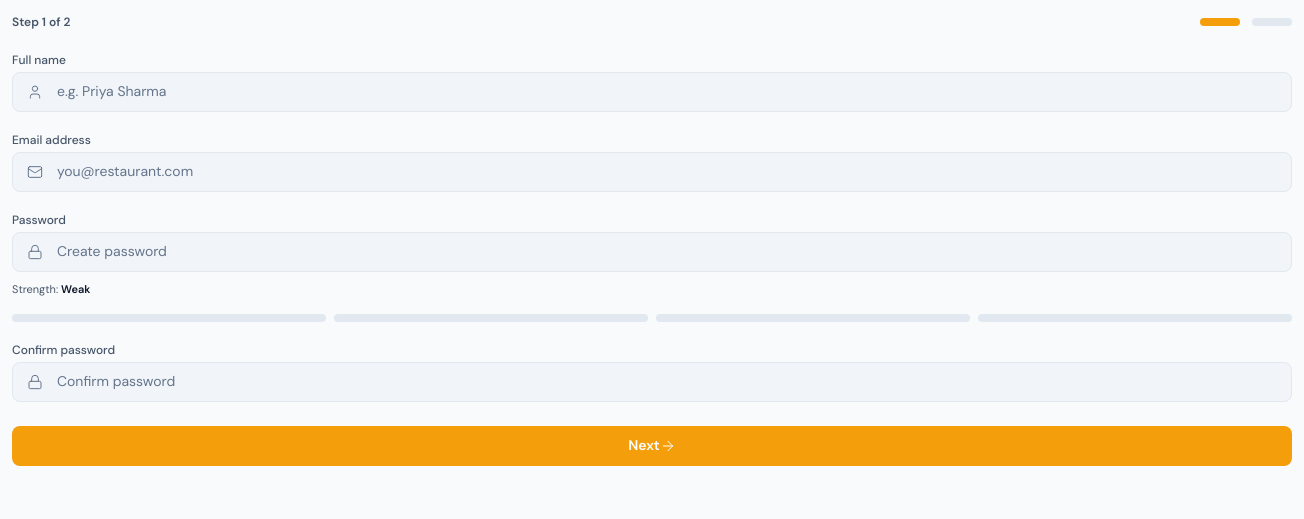
RestaurantSignupForm › moves to Step 2 when Step 1 validates cleanly
In the field labelled "Full name": (674, 92) [57,80,1291,104], type "Priya Sharma"
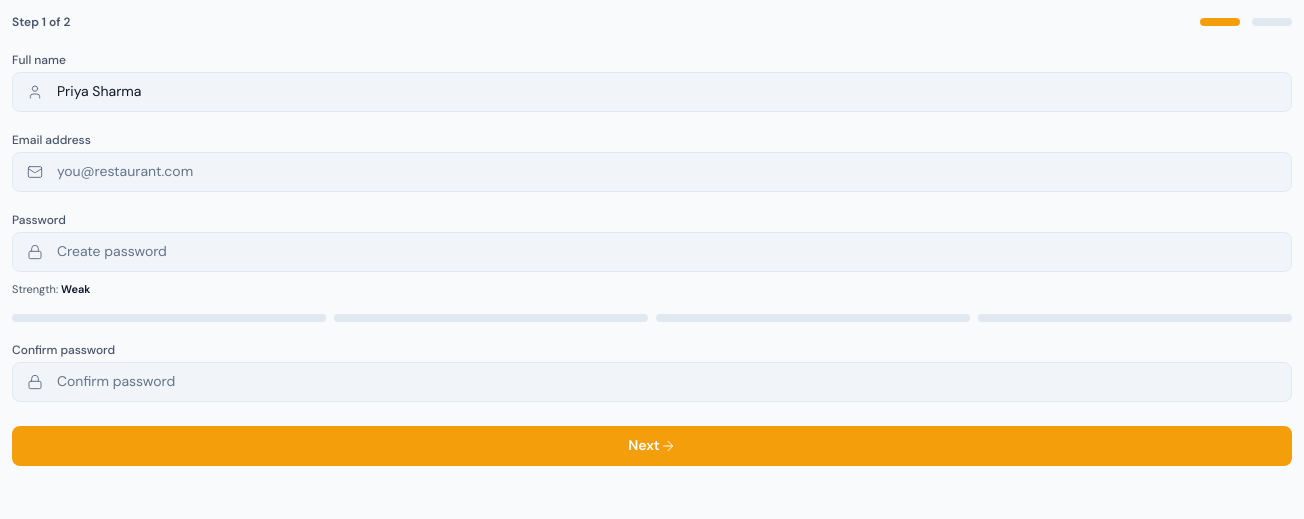
In the field labelled "Email address": (674, 172) [57,160,1291,184], type "fresh@restaurant.com"
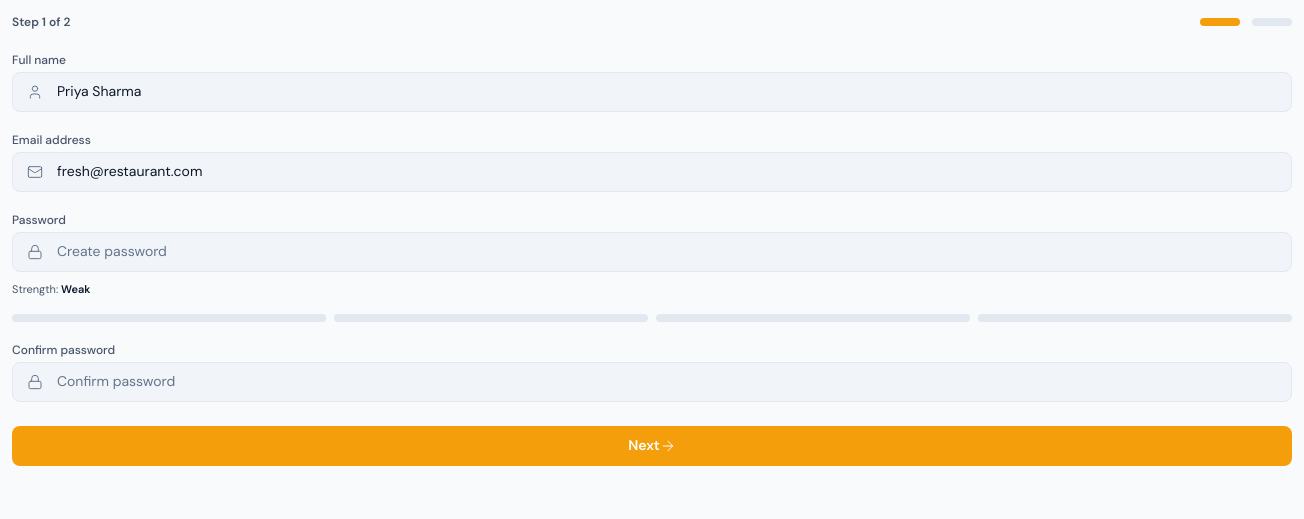
In the password field labelled "Password": (674, 252) [57,240,1291,264], type "Password1!"
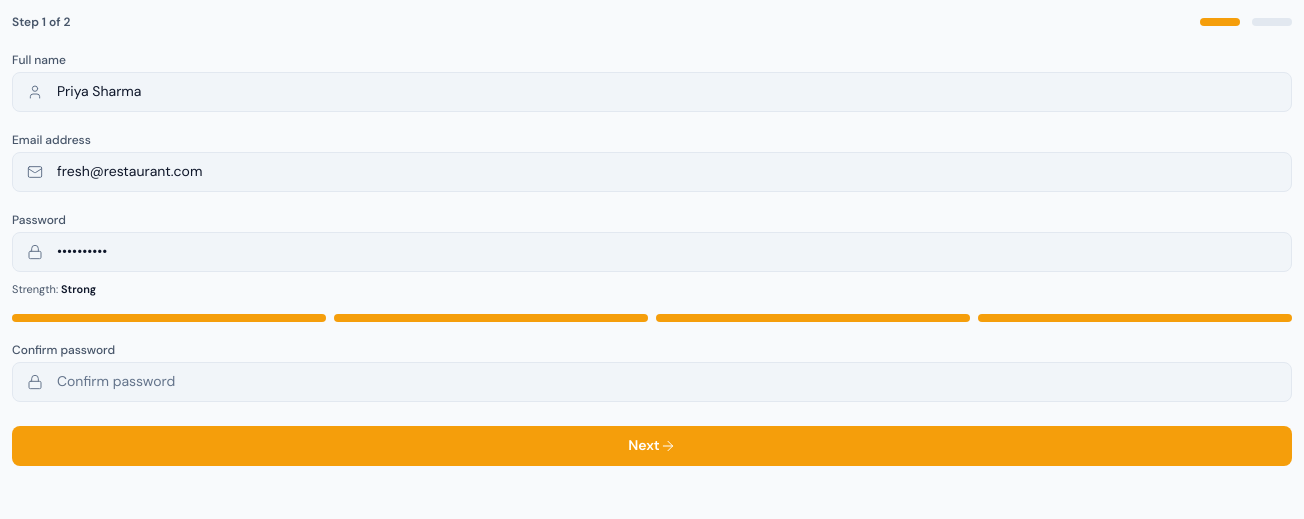
In the password field labelled "Confirm password": (674, 382) [57,370,1291,394], type "Password1!"
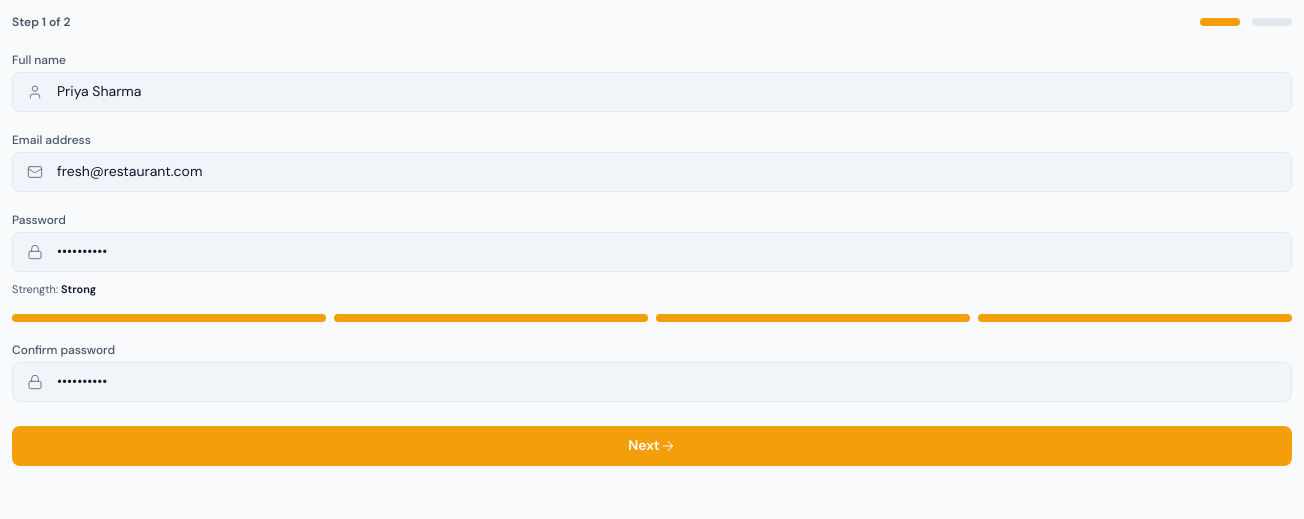
Click the button "Next": click(652, 446) [12,426,1292,466]
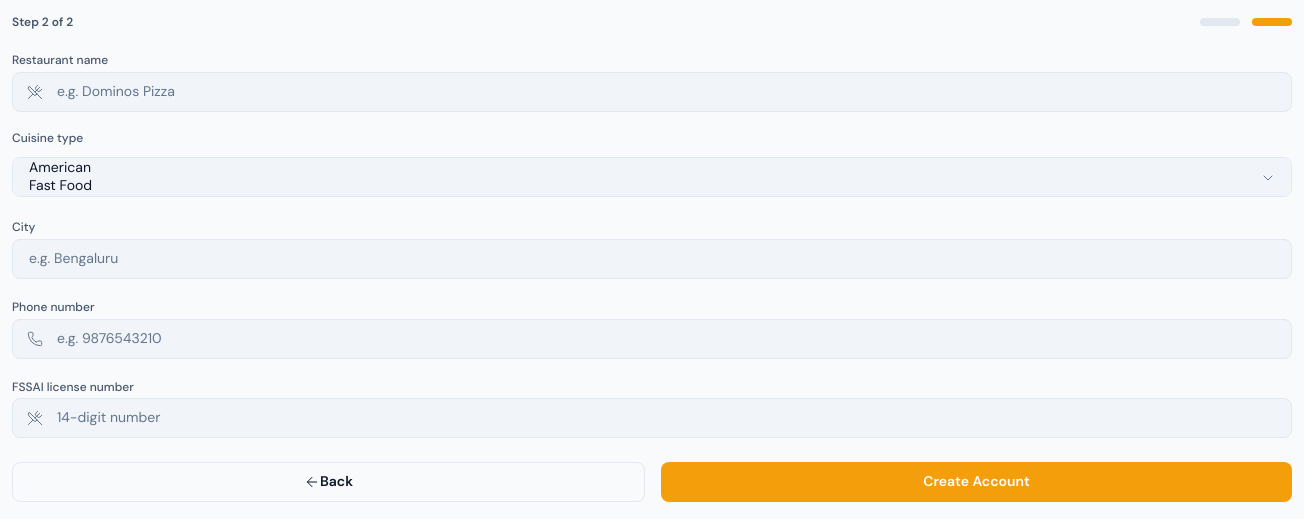
Now the field labelled "Restaurant name" is shown, box [57,80,1291,104]
